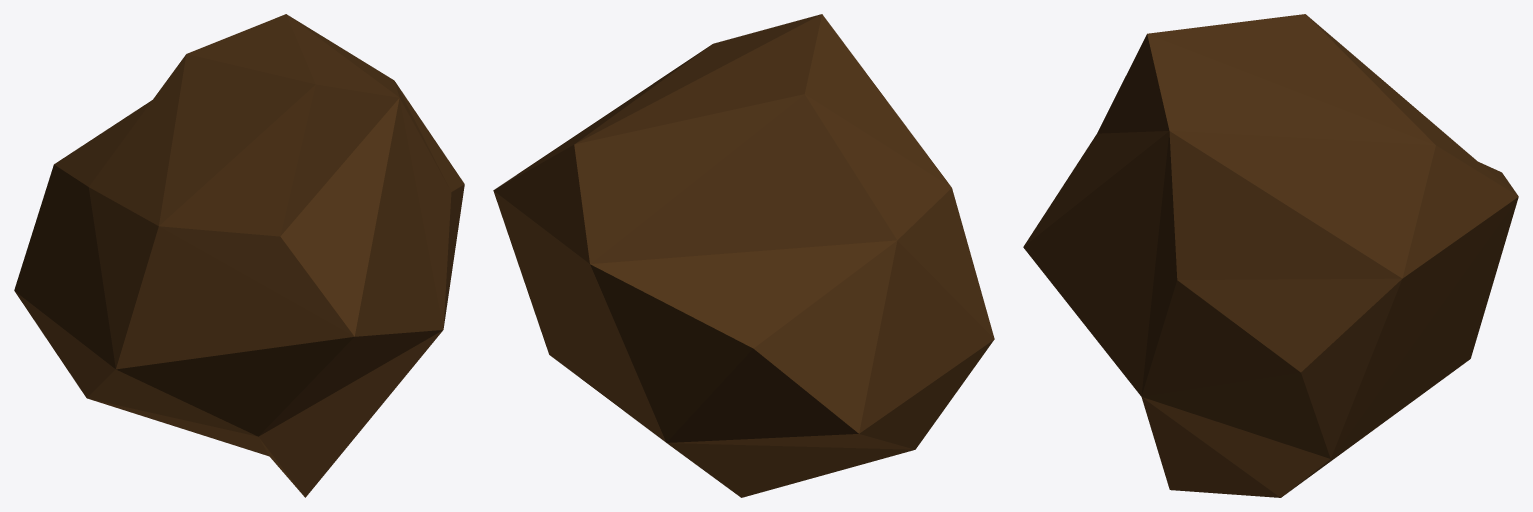
Rendered from asteroid1.fbx.
The picture shows the model from 3 angles, left to right: view 1: azimuth 30°, elevation 25°; view 2: azimuth 150°, elevation 25°; view 3: azimuth 270°, elevation 25°; orthographic projection. The views are drawn at different scales.
Visible parts, largest first — view 1: quickmaterial1; view 2: quickmaterial1; view 3: quickmaterial1.
Part boxes in pixels (<box>): quickmaterial1: <box>14,14,464,497</box>; quickmaterial1: <box>493,14,994,497</box>; quickmaterial1: <box>1023,14,1518,497</box>.
Size of the model in its own units: 2.1 by 2.1 by 2.07.
